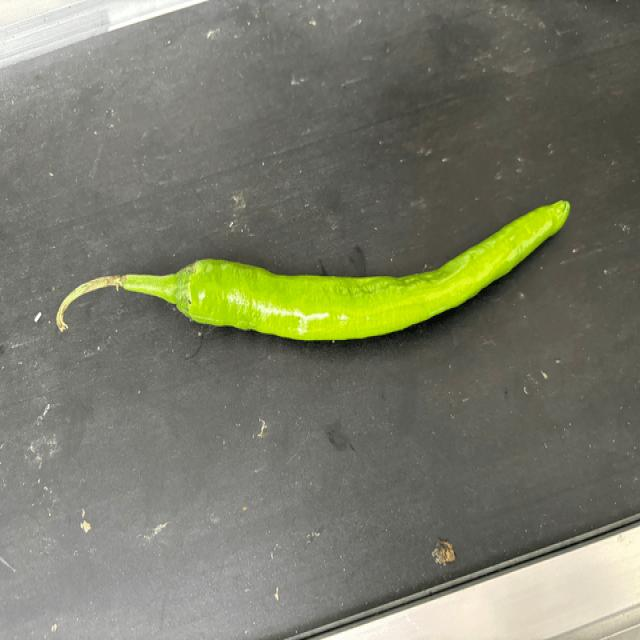chili: (169, 197, 573, 342)
